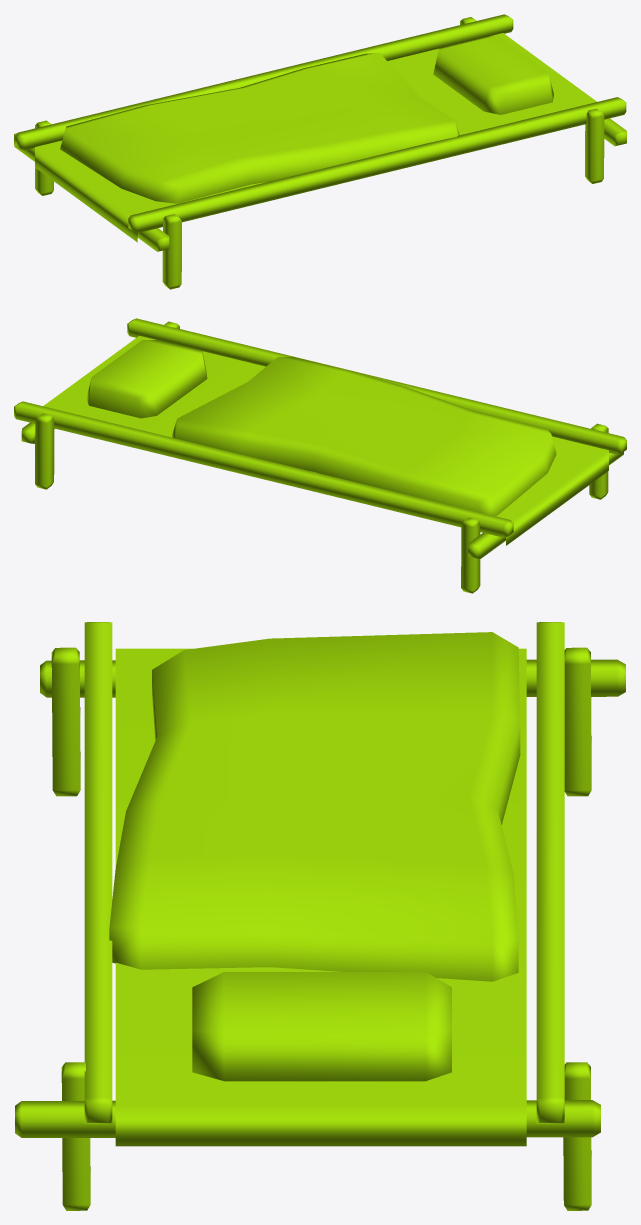
File: LOD1_lit.fbx
3 views of the same model, one above another, from view 1: azimuth 30°, elevation 25°; view 2: azimuth 150°, elevation 25°; view 3: azimuth 270°, elevation 25° (orthographic). The views are drawn at different scales.
Parts seen in each view (by area): view 1: lit_LOD1; view 2: lit_LOD1; view 3: lit_LOD1.
Part boxes in pixels (left/top/right/bottom): lit_LOD1: left=14, top=14, right=626, bottom=289; lit_LOD1: left=14, top=318, right=626, bottom=593; lit_LOD1: left=15, top=622, right=625, bottom=1210.
Bounding box in the file's own units: 180 × 29.23 × 96.68.
